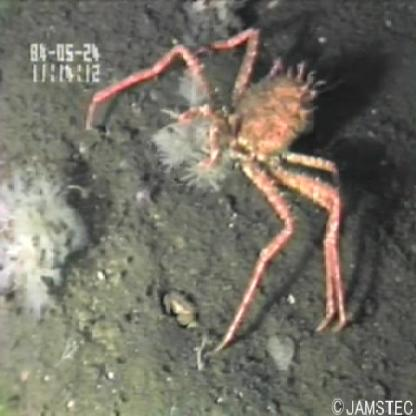Bio: (82, 22, 354, 359)
